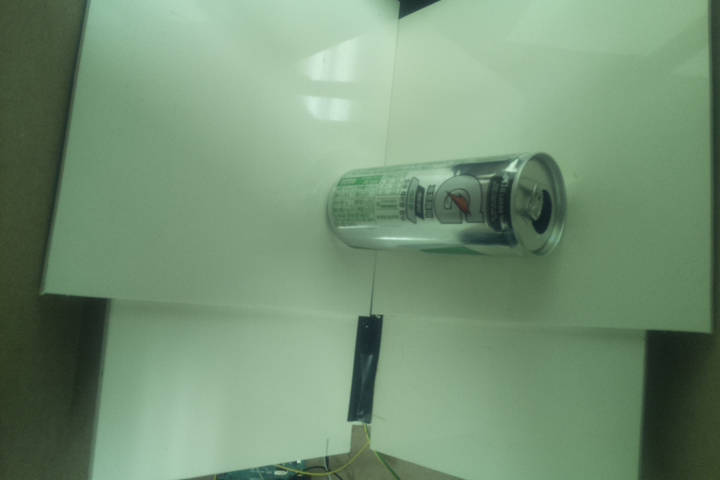can: (327, 144, 571, 260)
